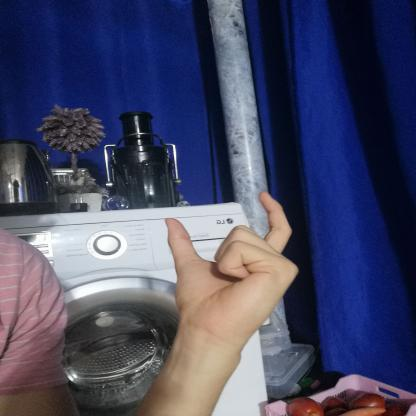NOON: (149, 186, 313, 342)
